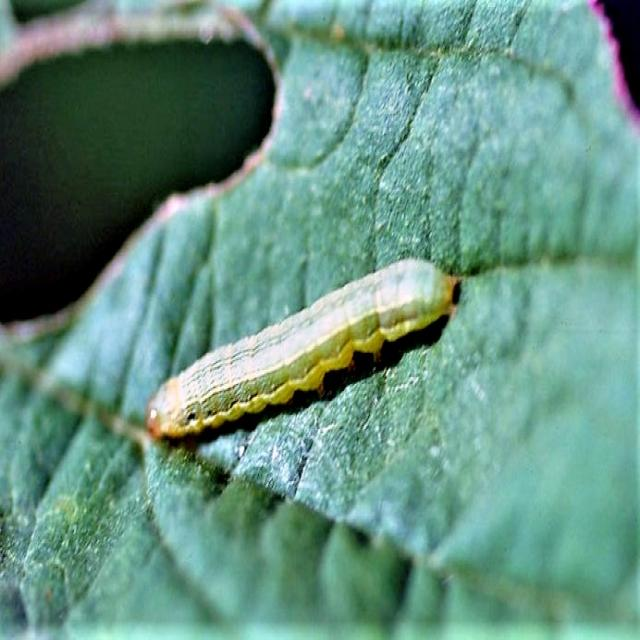armyworm: (144, 254, 462, 442)
